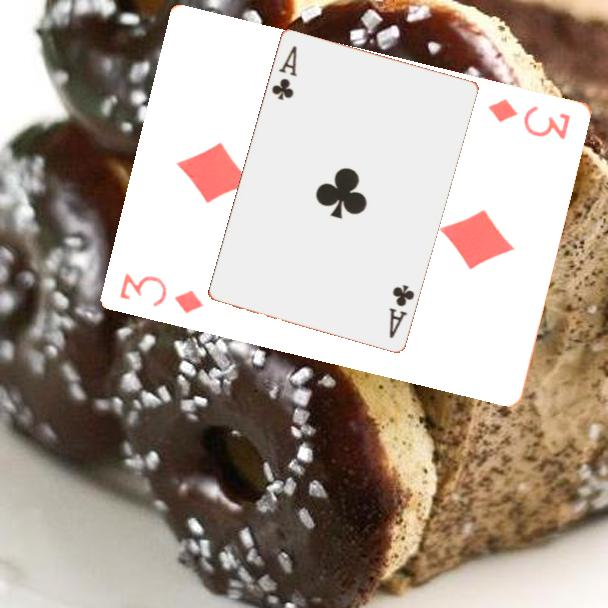c01: (268, 42, 300, 103), (385, 280, 417, 341)
d03: (117, 269, 208, 317), (485, 94, 574, 142)
